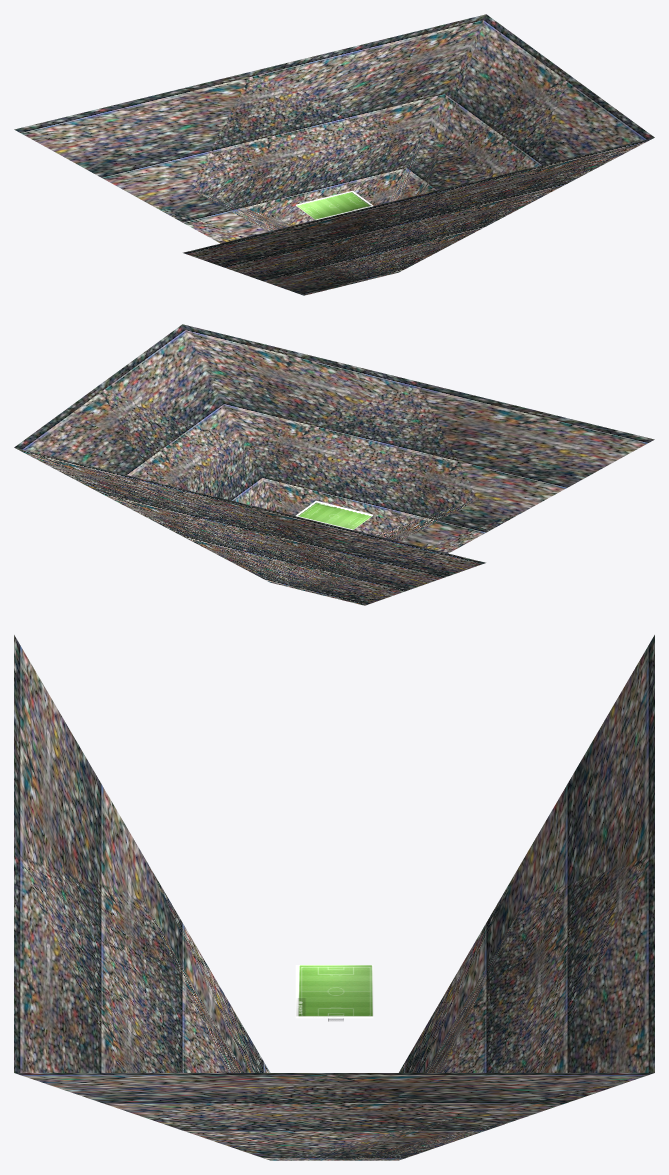
Rendered from stadium2.gltf.
3 renders of one model, top to bottom at view 1: azimuth 30°, elevation 25°; view 2: azimuth 150°, elevation 25°; view 3: azimuth 270°, elevation 25°, orthographic. The views are drawn at different scales.
Parts seen in each view (by area): view 1: Object_2; view 2: Object_2; view 3: Object_2.
Boxes of the visible parts, box(x1,y1,x2,y2) form: Object_2: box(14, 14, 654, 295); Object_2: box(14, 324, 654, 605); Object_2: box(14, 635, 654, 1160).
Bounding box in the file's own units: 1980 × 554 × 1223.
Materials: 5 (3 with a texture image).
